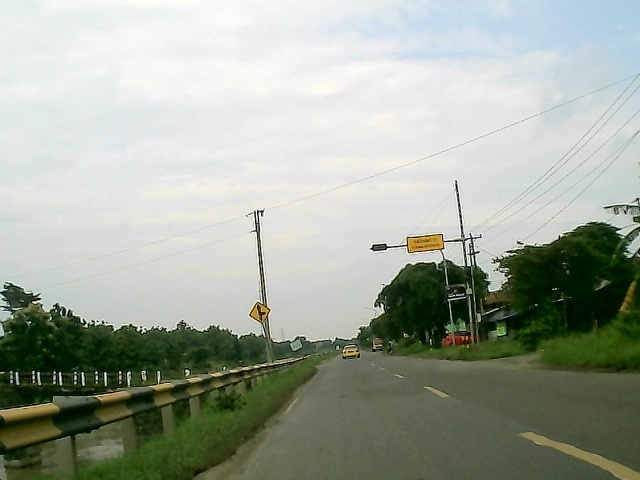Simpang kanan dengan prioritas: (248, 301, 273, 325)
